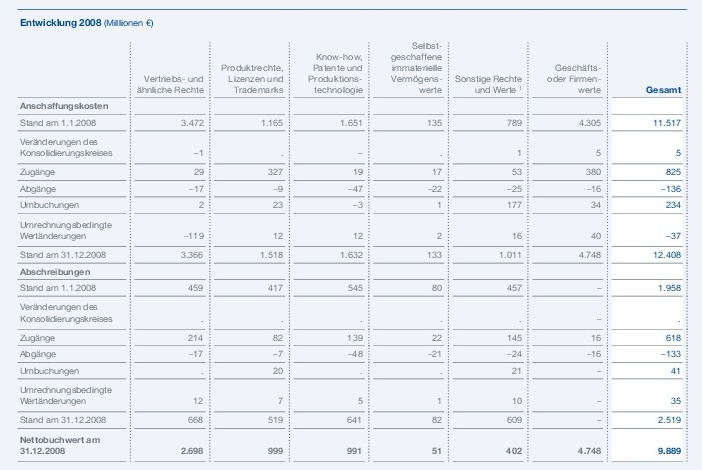table: (0, 0, 702, 470)
